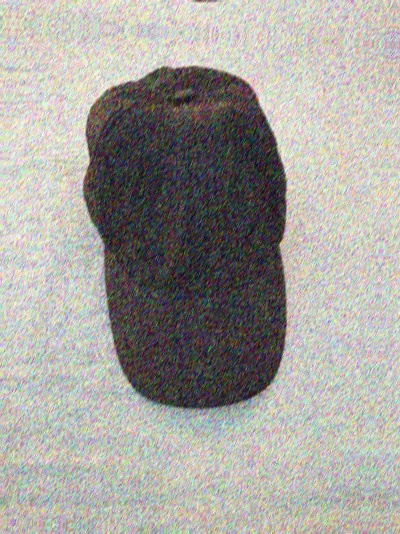Hat: (45, 36, 329, 405), (67, 0, 351, 31)
